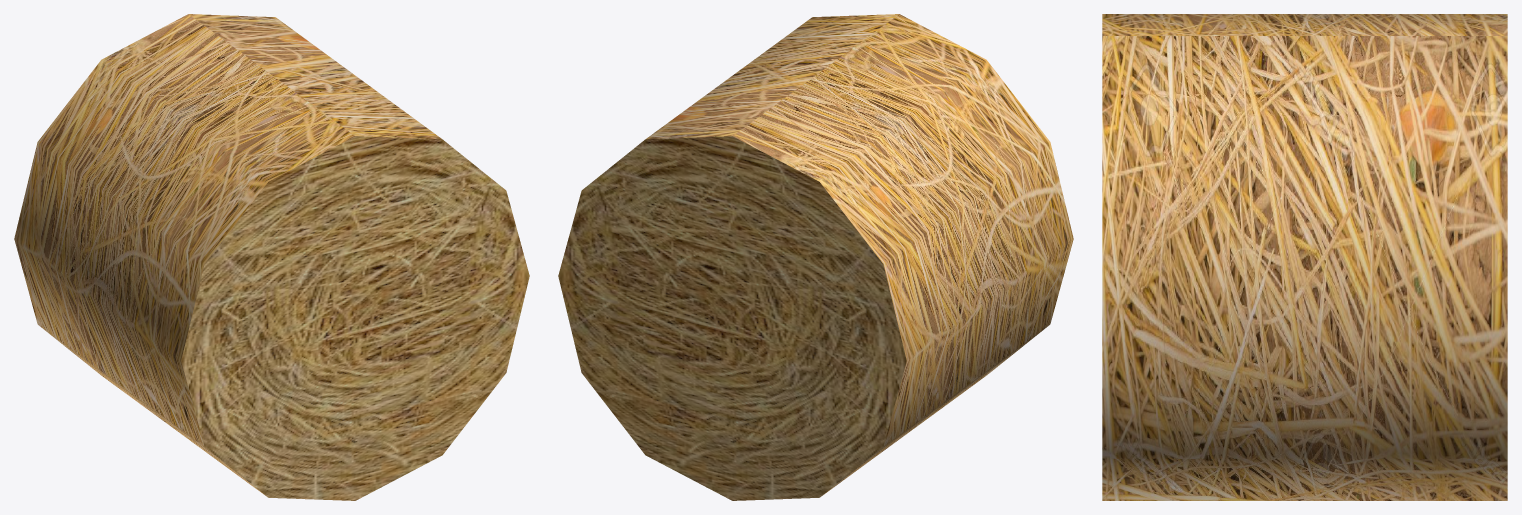
File: Hooibaal.FBX
The picture shows the model from 3 angles, left to right: view 1: azimuth 30°, elevation 25°; view 2: azimuth 150°, elevation 25°; view 3: azimuth 270°, elevation 25°; orthographic projection. The views are drawn at different scales.
Parts seen in each view (by area): view 1: Hooibaal; view 2: Hooibaal; view 3: Hooibaal.
Part boxes in pixels (x1,y1,x2,y2): Hooibaal: (14,14,529,500); Hooibaal: (558,14,1073,500); Hooibaal: (1102,14,1507,500).
Bounding box in the file's own units: 20.23 × 16.78 × 20.23.
2 materials, 2 textured.
